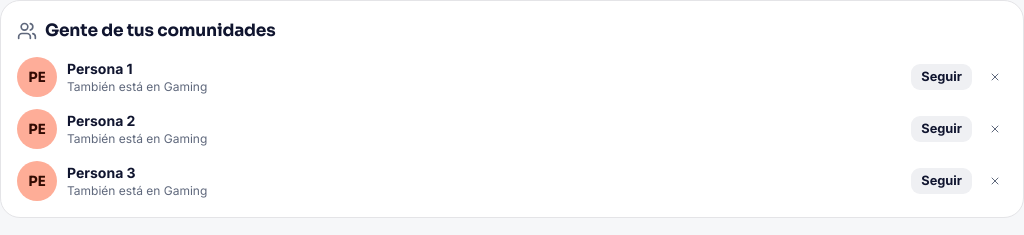
Test: PeopleSuggestions › «Quitar» oculta a la persona y guarda el descarte
The image size is (1024, 235).
Click the button named "Quitar a Persona 2 de tus sugerencias". click: (995, 129)
box: [983,117,1007,141]
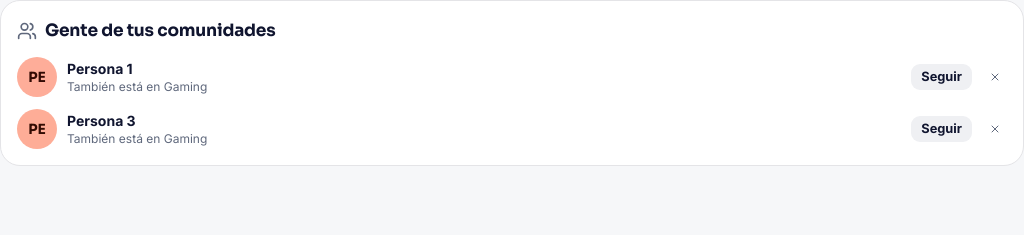
Expected: the link "Persona 2" is gone
